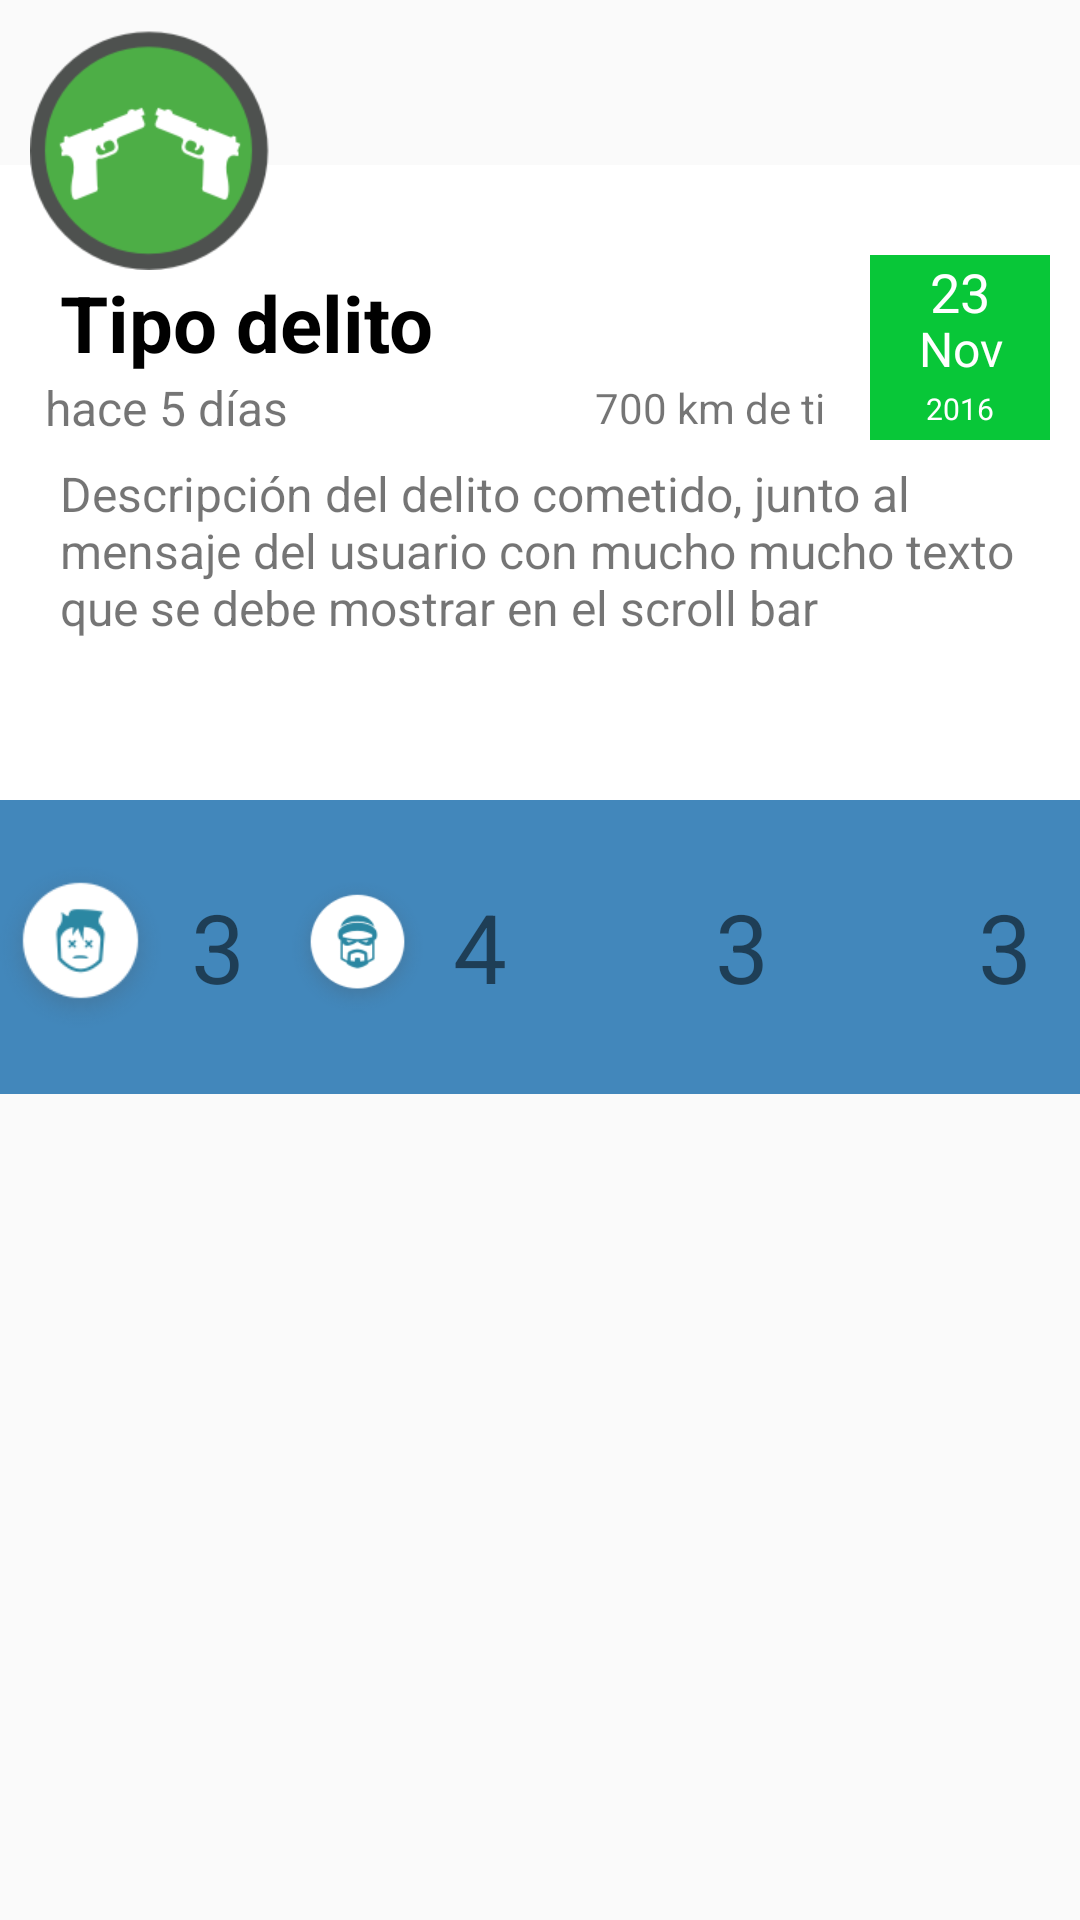

Icons on this 1080*1920 Android screen, each with its box as (x1, y1, x2, y2):
criminal circled: (310, 894, 405, 989)
enfrentamientos badge med: (30, 31, 269, 270)
victim circled: (22, 882, 139, 999)
